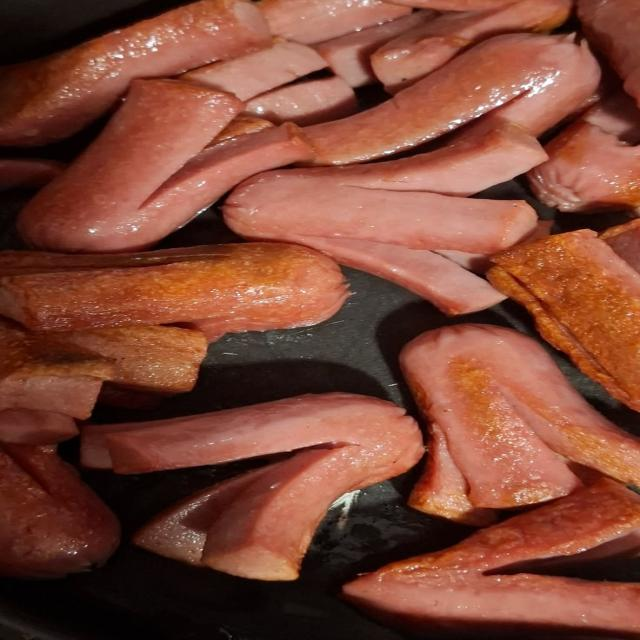sausage: (102, 393, 423, 580), (19, 81, 313, 252), (343, 480, 639, 638), (400, 325, 639, 507), (0, 0, 269, 145), (18, 80, 243, 252), (305, 34, 599, 164), (400, 325, 580, 508), (0, 244, 347, 332), (488, 229, 639, 410), (223, 171, 537, 252), (136, 119, 313, 245), (260, 123, 547, 196), (372, 0, 572, 93), (299, 237, 506, 316), (0, 445, 119, 578), (454, 41, 600, 141), (528, 92, 639, 212), (0, 320, 114, 419), (53, 326, 207, 396), (314, 11, 437, 87), (408, 422, 497, 526), (180, 39, 326, 100), (258, 0, 411, 44), (577, 0, 639, 103), (246, 77, 358, 126), (0, 408, 79, 445), (206, 115, 274, 148), (600, 220, 639, 271), (0, 159, 65, 189), (393, 0, 514, 11)
